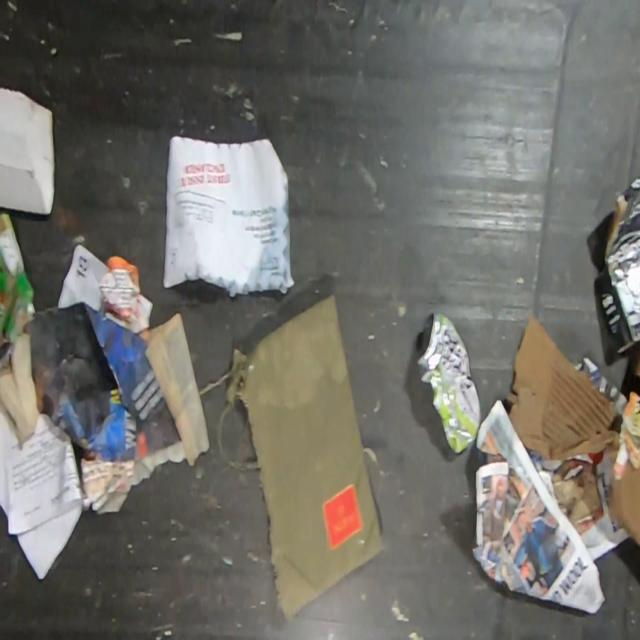cardboard: (501, 313, 622, 462), (600, 176, 640, 356), (0, 268, 36, 350)
metal: (415, 310, 480, 454)
soft_plastic: (224, 291, 384, 621)
